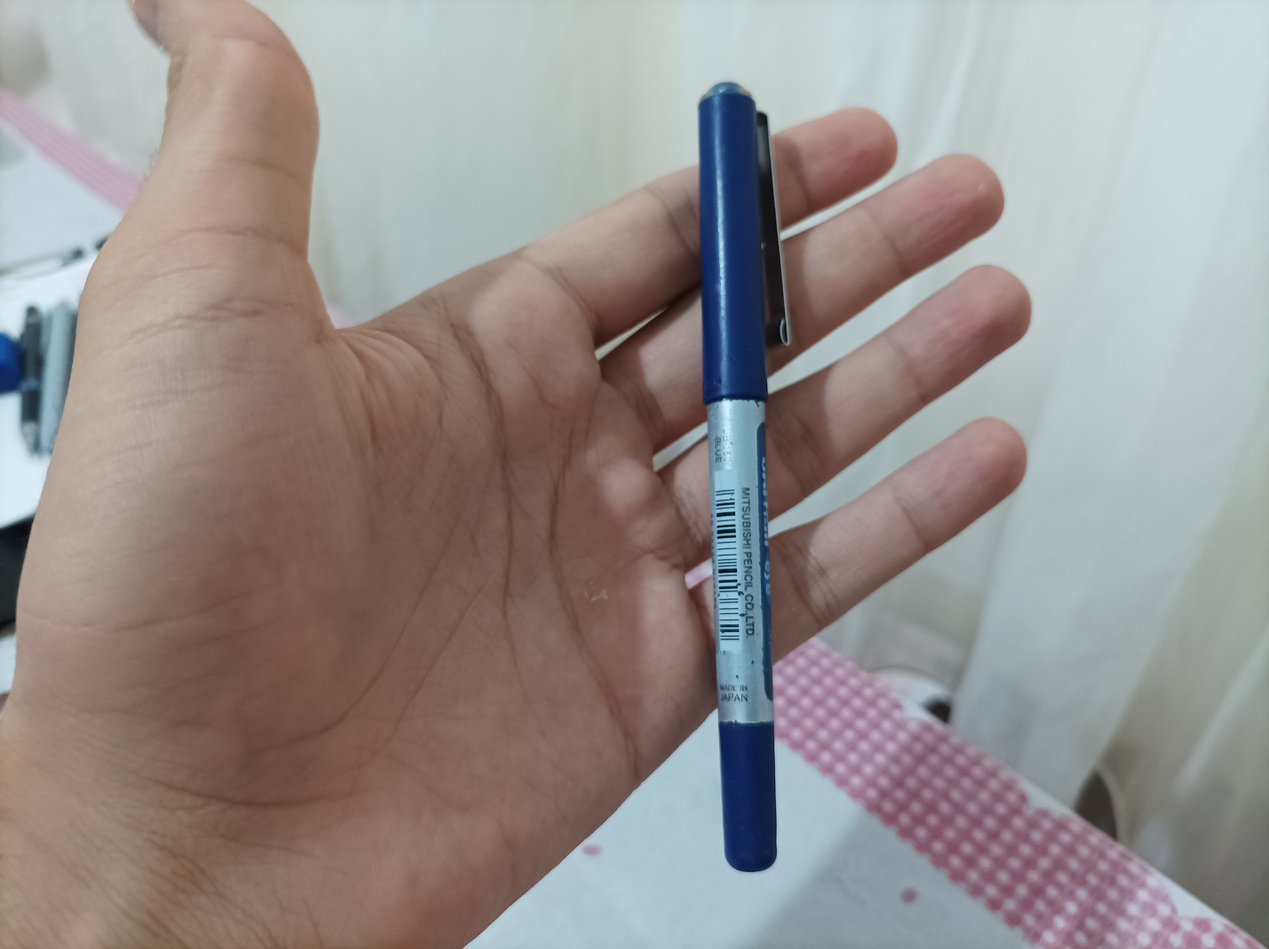plastic: (692, 63, 794, 875)
